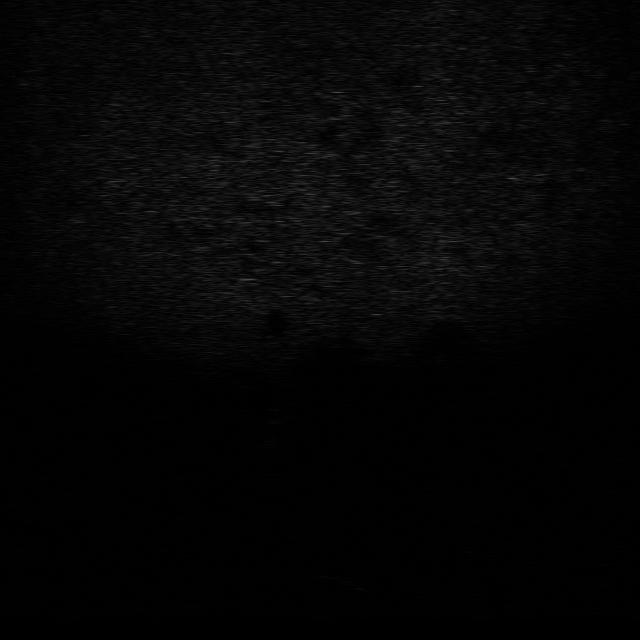ball: (258, 406, 292, 426)
metal bucket: (305, 566, 373, 595)
tyre: (428, 525, 488, 558)
